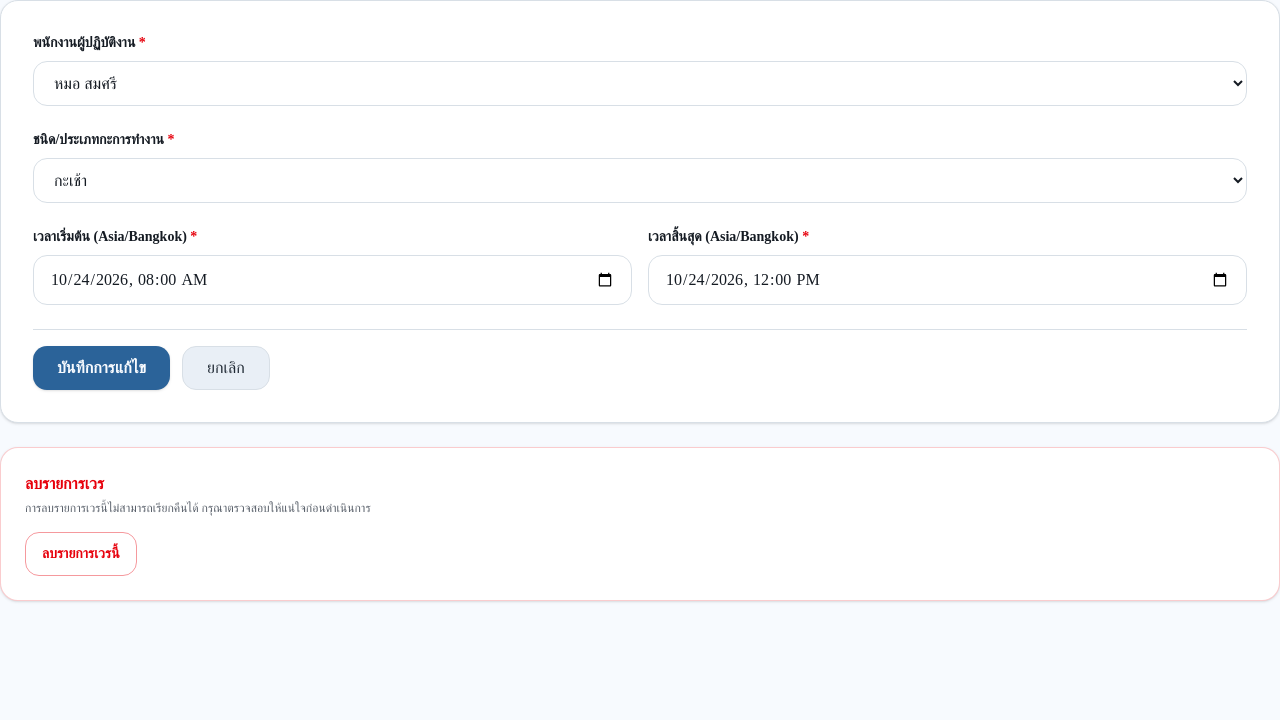
it: Admin Slot Edit and Delete › EditSlotForm Component › validates that end time must be greater than start time
This screenshot has width=1280, height=720.
// Set end time earlier than start time
Step 1. Replace the text in the field labelled "เวลาสิ้นสุด (Asia/Bangkok) *" with "2026-10-24T07:00" → (948, 280), box x1=648 y1=255 x2=1247 y2=305
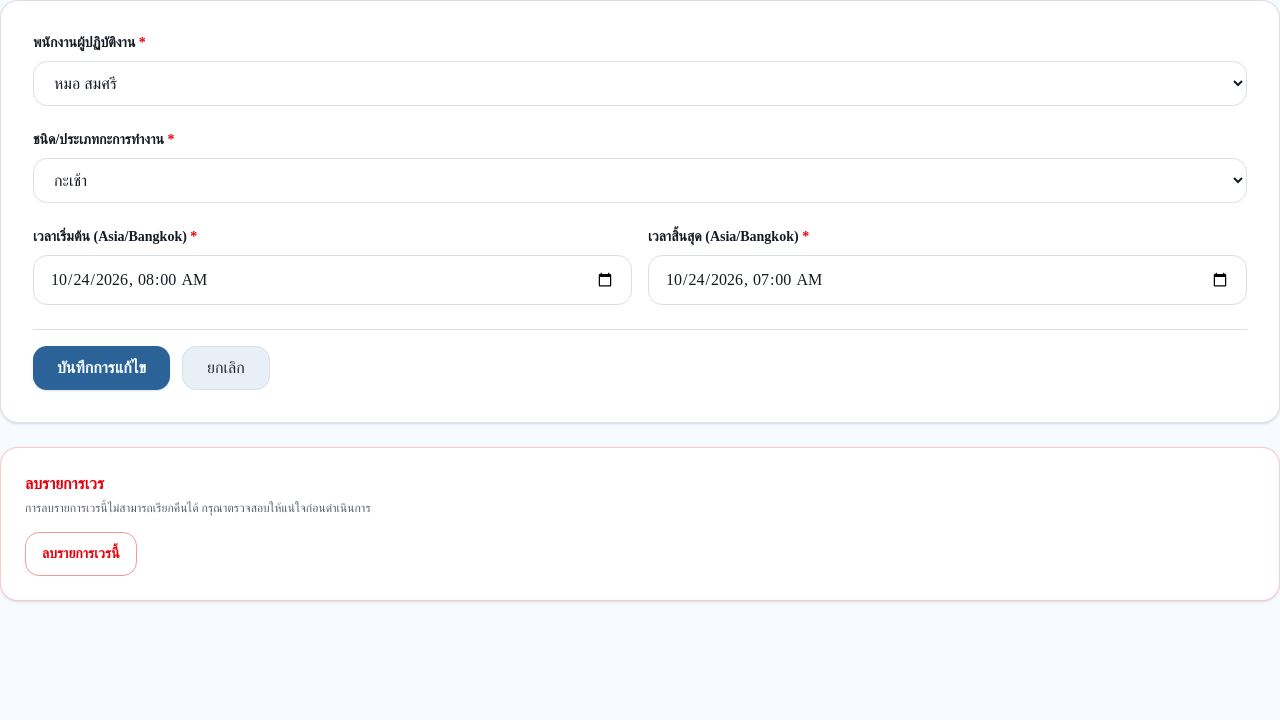
Step 2. Click the button "บันทึกการแก้ไข" → (102, 368), box x1=33 y1=346 x2=170 y2=390
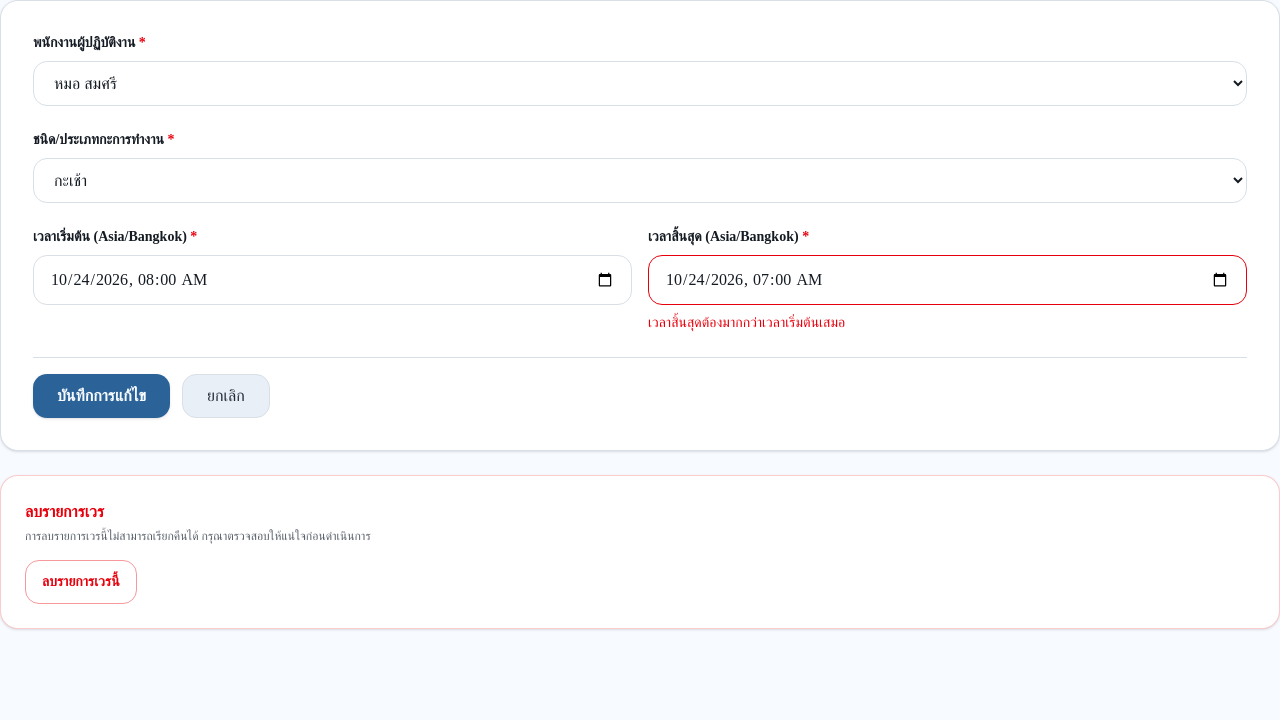
Now the text "เวลาสิ้นสุดต้องมากกว่าเวลาเริ่มต้นเสมอ" is shown, box x1=648 y1=315 x2=845 y2=330
